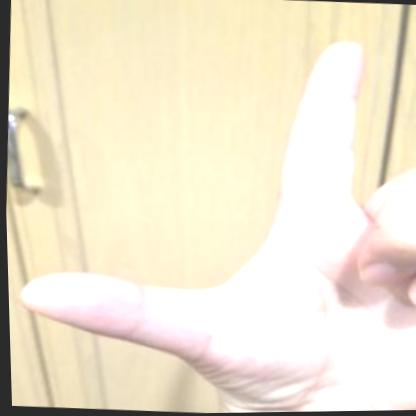L: (0, 11, 416, 416)
